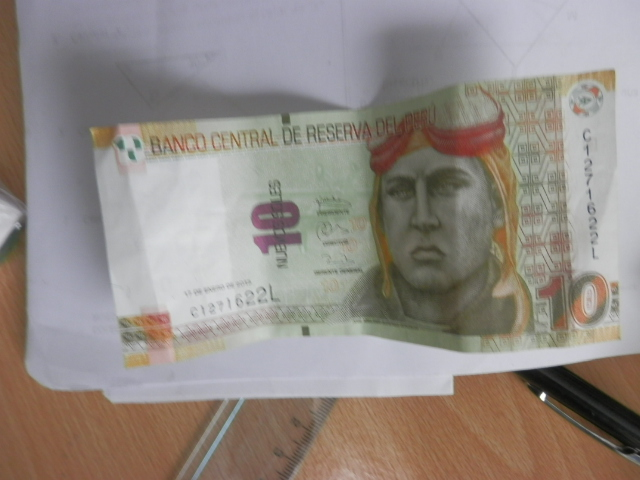B10: (80, 88, 629, 371)
